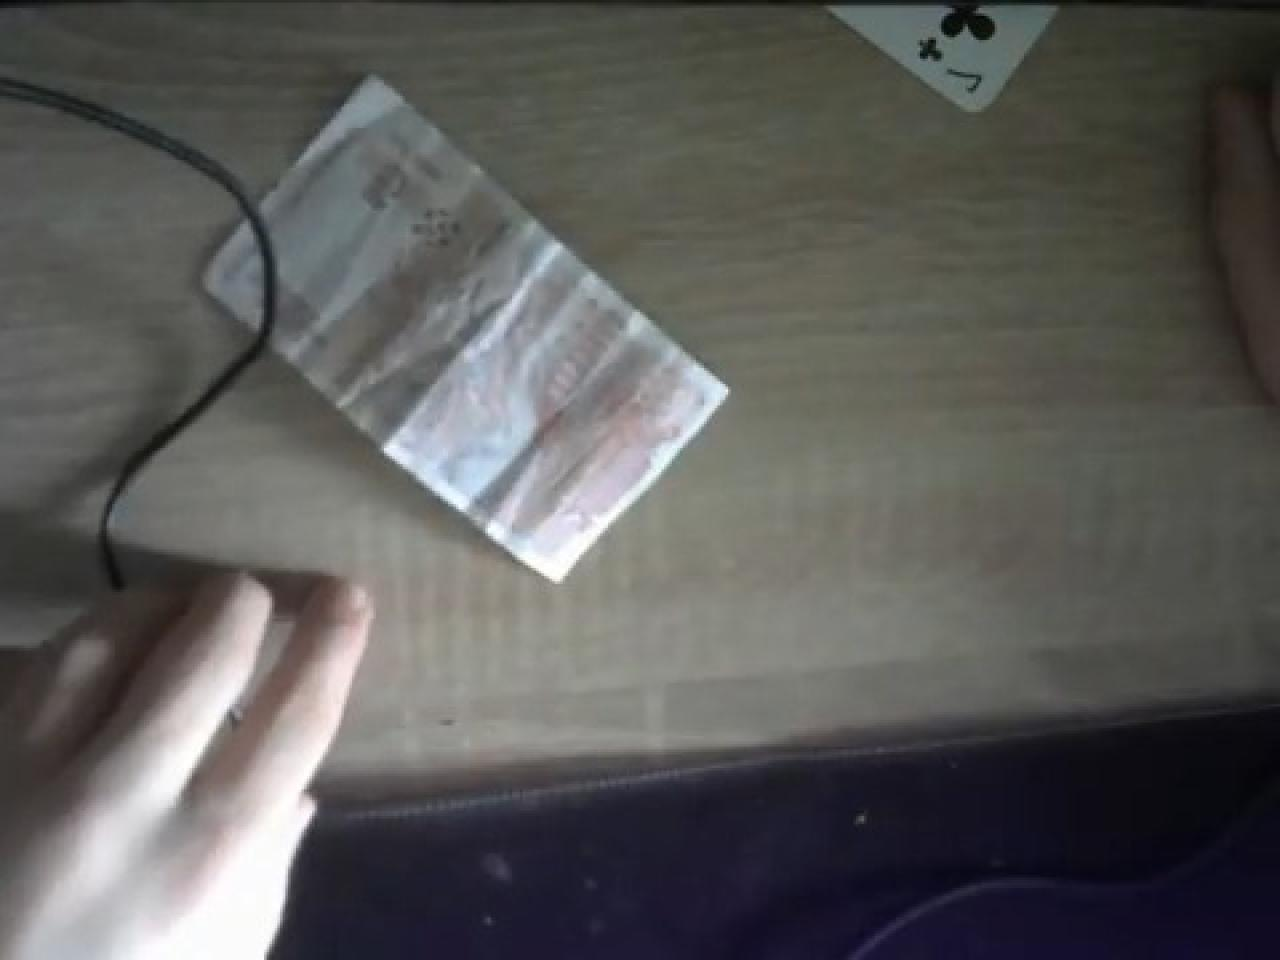5leva: (191, 70, 731, 581)
